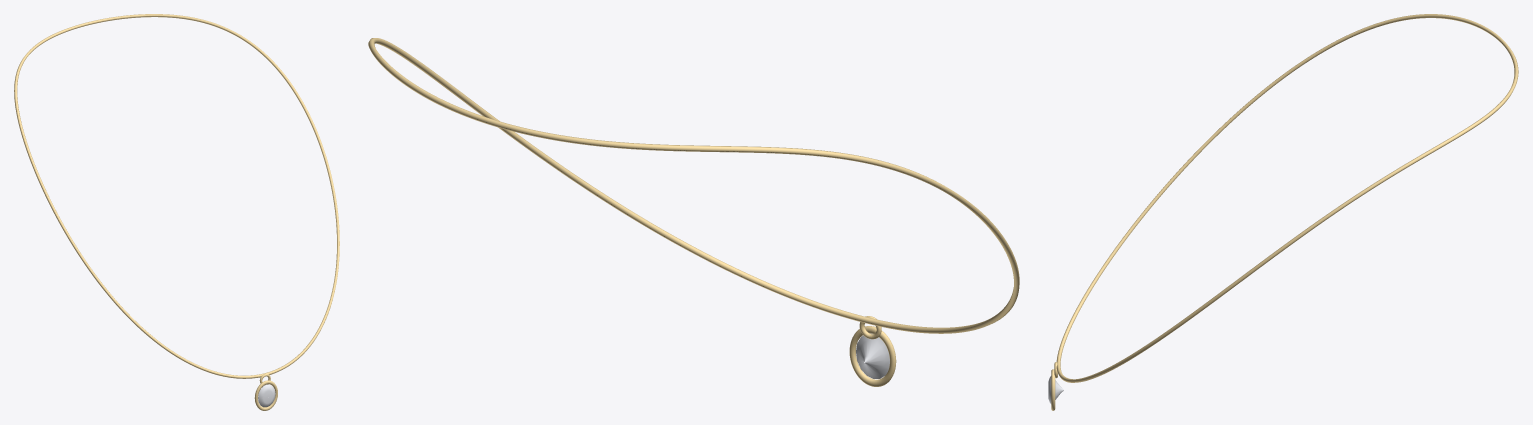
Rendered from necklace-halo.glb.
3 views of the same model, side by side, from view 1: azimuth 30°, elevation 25°; view 2: azimuth 150°, elevation 25°; view 3: azimuth 270°, elevation 25° (orthographic). The views are drawn at different scales.
Visible parts, largest first — view 1: chain, pendant; view 2: chain, pendant, halo; view 3: chain.
Part boxes in pixels (x1,y1,x2,y2): chain: [14, 14, 339, 378]; pendant: [258, 384, 275, 407]; chain: [368, 38, 1019, 333]; pendant: [856, 333, 889, 378]; halo: [849, 326, 896, 386]; chain: [1056, 14, 1518, 382].
Bounding box in the file's own units: 0.1396 × 0.1275 × 0.1601.
